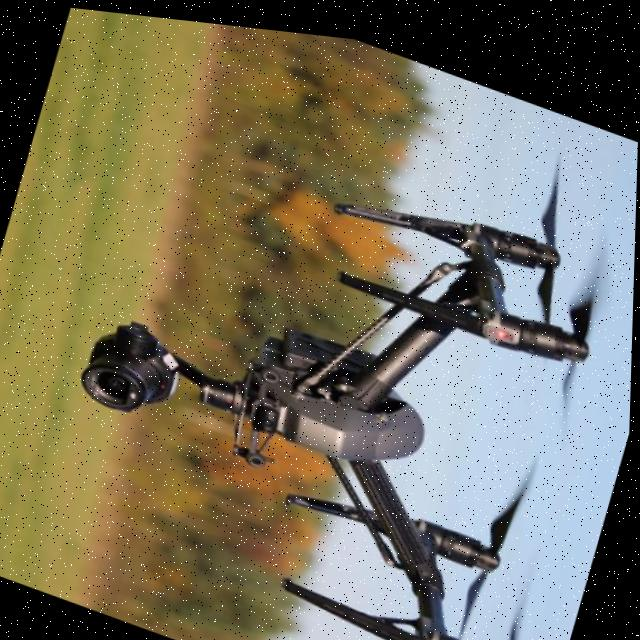drones: (166, 70, 639, 640)
